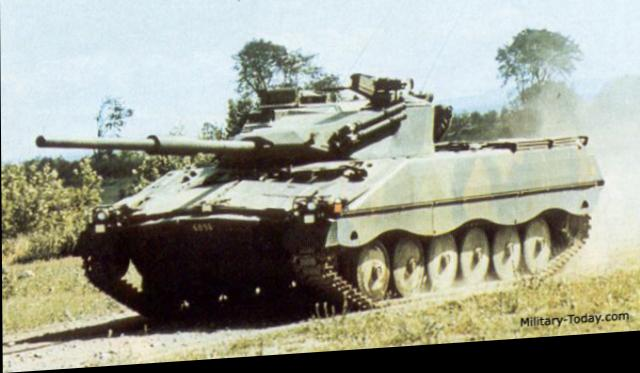tank: (78, 114, 602, 319)
